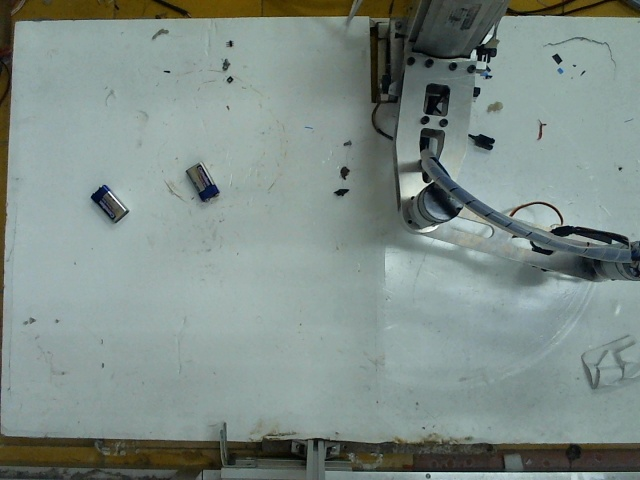battery: (187, 161, 222, 201), (90, 185, 129, 219)
